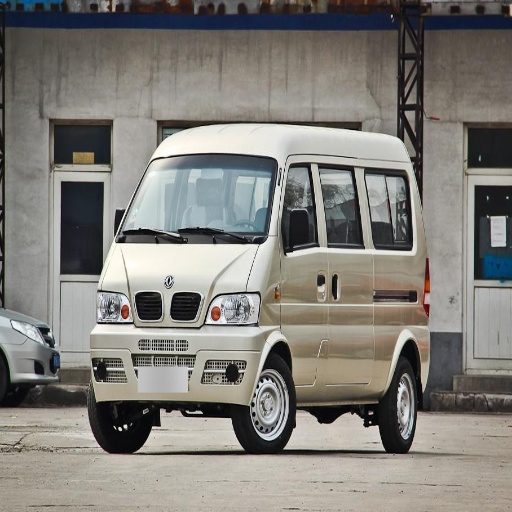front_bumper: (125, 282, 270, 398)
front_glass: (119, 154, 276, 243)
front_left_door: (278, 160, 359, 386)
trunk: (355, 276, 432, 390)
